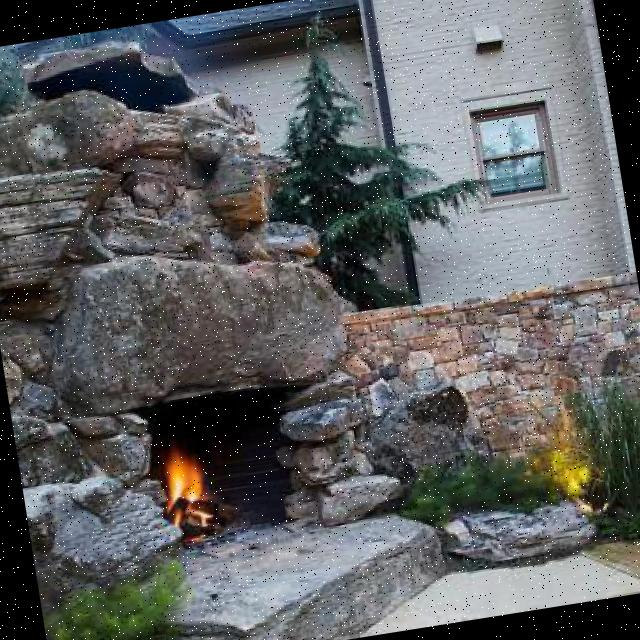fire: (144, 432, 224, 544)
